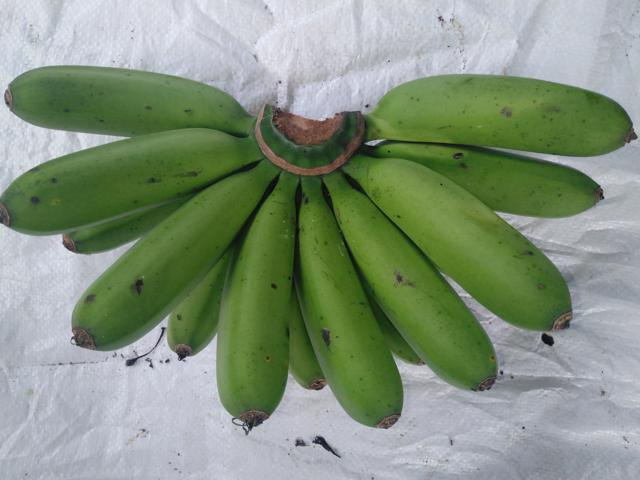unripe: (351, 146, 589, 342), (338, 191, 510, 402), (293, 178, 425, 451), (50, 196, 281, 351), (349, 46, 639, 169), (0, 130, 277, 250), (207, 181, 308, 464), (0, 57, 261, 145)
